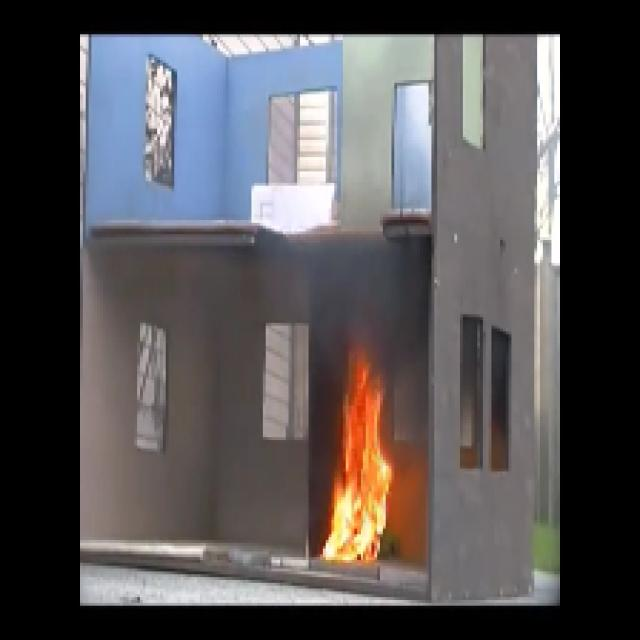fire: (316, 381, 401, 571)
smoke: (320, 244, 427, 346)
